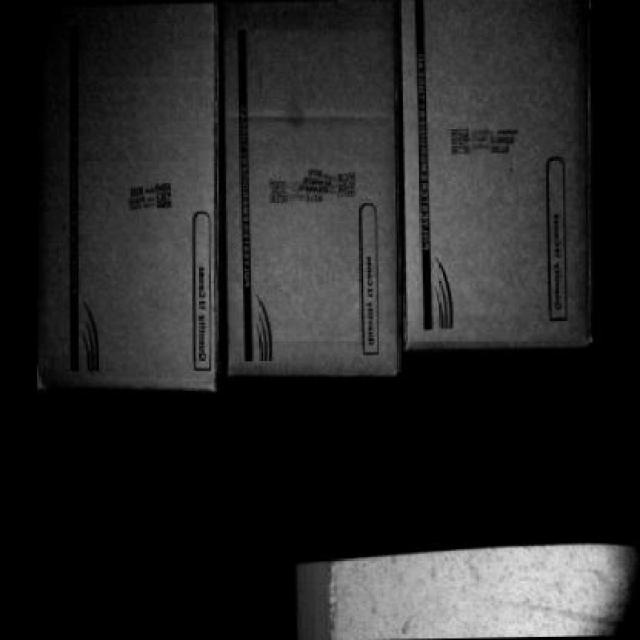cardboxes: (22, 11, 222, 392), (399, 3, 596, 351), (221, 15, 396, 380)
